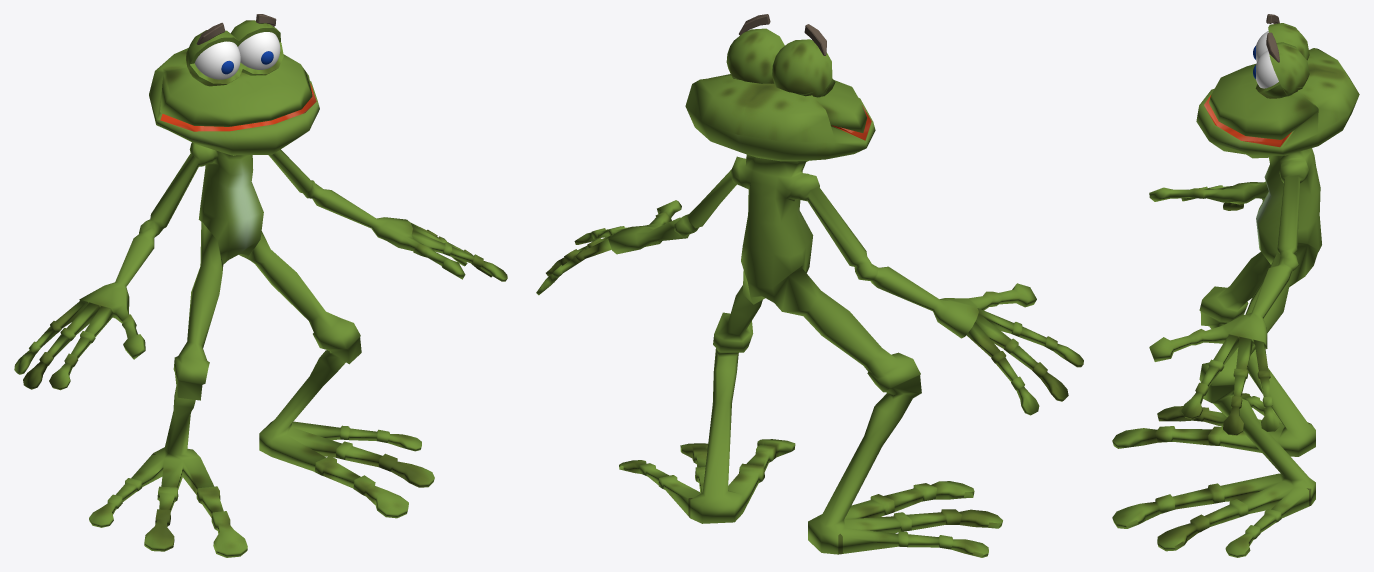
The model's file is Frog.fbx.
3 views of the same model, side by side, from view 1: azimuth 30°, elevation 25°; view 2: azimuth 150°, elevation 25°; view 3: azimuth 270°, elevation 25° (orthographic). The views are drawn at different scales.
Visible parts, largest first — view 1: frog-01, eye-04, eye-01, paupiere-03, paupiere-01; view 2: frog-01, paupiere-03, paupiere-01; view 3: frog-01, paupiere-01, paupiere-03, eye-01, paupiere-02.
Boxes of the visible parts, bbox=[...] form: frog-01: bbox=[14, 48, 507, 557]; eye-04: bbox=[194, 41, 240, 79]; eye-01: bbox=[238, 32, 280, 69]; paupiere-03: bbox=[186, 30, 238, 73]; paupiere-01: bbox=[230, 20, 280, 46]; frog-01: bbox=[536, 74, 1083, 557]; paupiere-03: bbox=[772, 39, 832, 97]; paupiere-01: bbox=[726, 28, 784, 83]; frog-01: bbox=[1112, 48, 1359, 557]; paupiere-01: bbox=[1269, 42, 1309, 96]; paupiere-03: bbox=[1268, 23, 1309, 60]; eye-01: bbox=[1256, 50, 1278, 88]; paupiere-02: bbox=[1255, 82, 1304, 98].
Size of the model in its own units: 1122 by 1059 by 516.
Materials: 5 (2 with a texture image).
